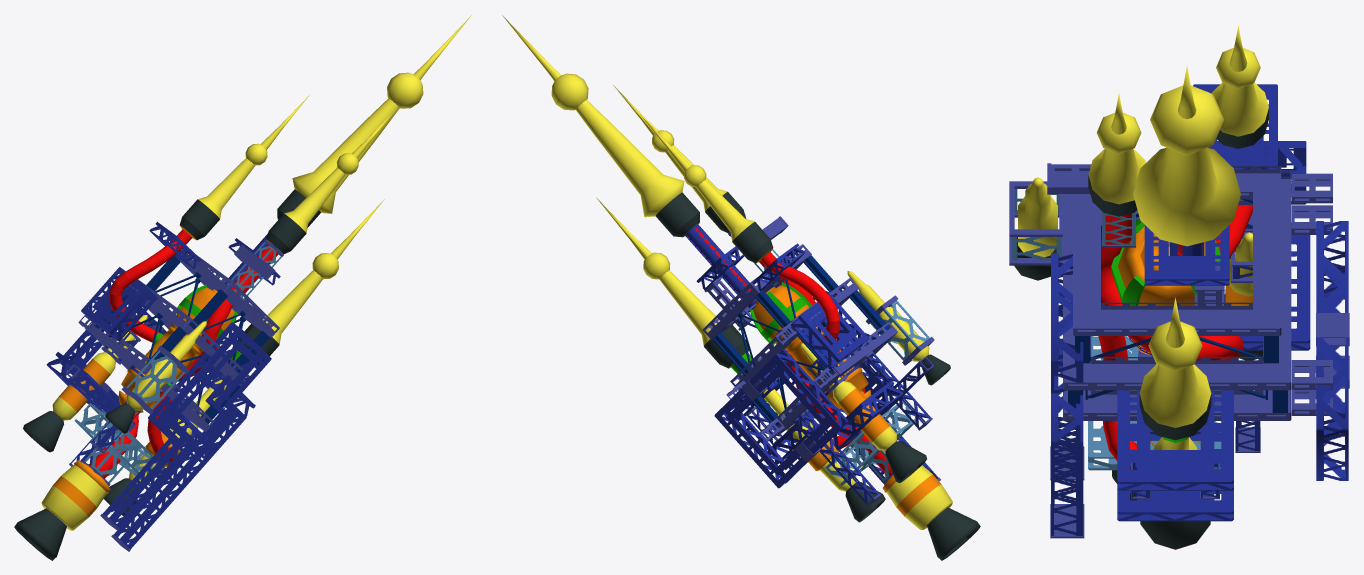
File: dreadnought_planet.obj
3 renders of one model, left to right at view 1: azimuth 30°, elevation 25°; view 2: azimuth 150°, elevation 25°; view 3: azimuth 270°, elevation 25°, orthographic. The views are drawn at different scales.
Parts seen in each view (by area): view 1: n2b5_ID68.001, n1b1_ID59.001, n7b7_ID113.001, n9b3_ID131.001, n6b2_ID104.001, n0b8_ID50.001, n8b0_ID122.001, n5b6_ID95.001, n3b9_ID77.001; view 2: n1b1_ID59.001, n2b5_ID68.001, n7b7_ID113.001, n9b3_ID131.001, n3b9_ID77.001, n8b0_ID122.001, n5b6_ID95.001, n0b8_ID50.001, n6b2_ID104.001, n4b4_ID86.001; view 3: n7b7_ID113.001, n2b5_ID68.001, n1b1_ID59.001, n9b3_ID131.001, n6b2_ID104.001, n0b8_ID50.001, n8b0_ID122.001, n5b6_ID95.001, n3b9_ID77.001, n4b4_ID86.001.
Part boxes in pixels (box(x1,y1,x2,y2)): n2b5_ID68.001: box(46, 222, 280, 549); n1b1_ID59.001: box(41, 15, 471, 530); n7b7_ID113.001: box(65, 240, 283, 551); n9b3_ID131.001: box(14, 189, 320, 560); n6b2_ID104.001: box(89, 229, 278, 478); n0b8_ID50.001: box(74, 242, 281, 486); n8b0_ID122.001: box(53, 219, 282, 516); n5b6_ID95.001: box(95, 256, 269, 423); n3b9_ID77.001: box(69, 233, 267, 464); n1b1_ID59.001: box(502, 15, 952, 529); n2b5_ID68.001: box(696, 243, 938, 488); n7b7_ID113.001: box(702, 216, 940, 506); n9b3_ID131.001: box(655, 192, 980, 560); n3b9_ID77.001: box(685, 224, 930, 504); n8b0_ID122.001: box(683, 218, 941, 516); n5b6_ID95.001: box(712, 255, 889, 427); n0b8_ID50.001: box(730, 235, 929, 485); n6b2_ID104.001: box(688, 228, 892, 475); n4b4_ID86.001: box(731, 282, 811, 376); n7b7_ID113.001: box(1009, 163, 1349, 538); n2b5_ID68.001: box(1051, 84, 1348, 535); n1b1_ID59.001: box(1018, 26, 1268, 449); n9b3_ID131.001: box(1014, 108, 1268, 549); n6b2_ID104.001: box(1098, 205, 1252, 469); n0b8_ID50.001: box(1012, 189, 1221, 470); n8b0_ID122.001: box(1118, 226, 1252, 449); n5b6_ID95.001: box(1068, 199, 1287, 412); n3b9_ID77.001: box(1131, 238, 1260, 497); n4b4_ID86.001: box(1111, 219, 1220, 442).
Size of the model in its own units: 87 by 78.44 by 27.87.
Materials: 9 (9 with a texture image).
